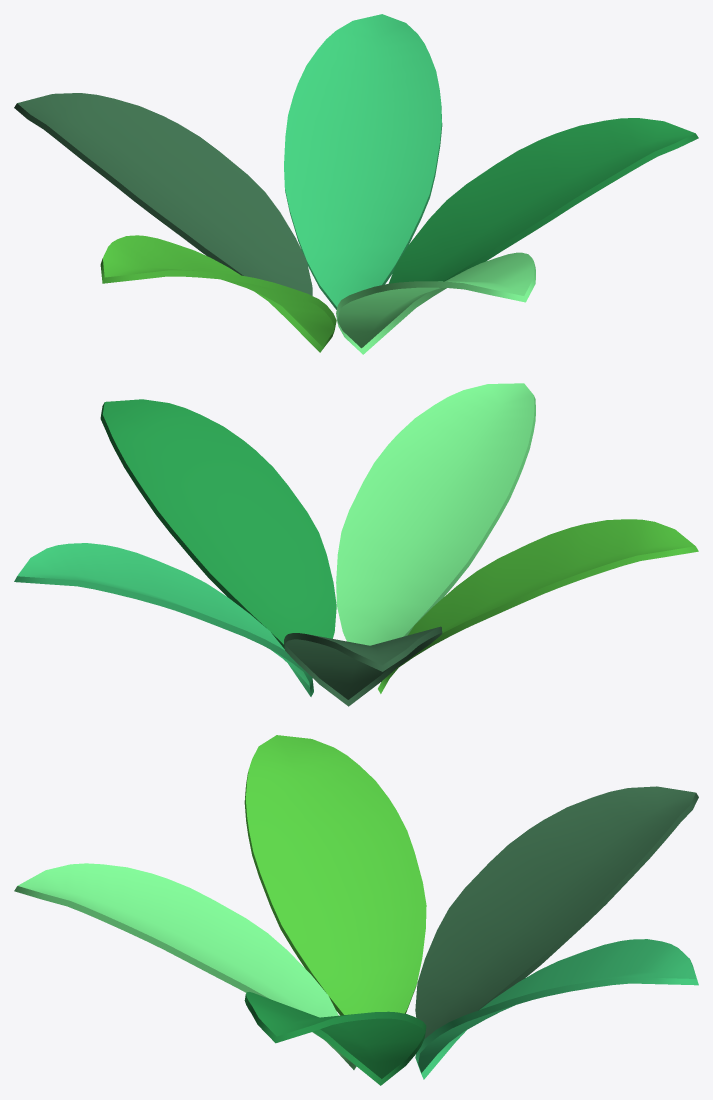
The model's file is Grass1.fbx.
3 renders of one model, top to bottom at view 1: azimuth 30°, elevation 25°; view 2: azimuth 150°, elevation 25°; view 3: azimuth 270°, elevation 25°, orthographic. The views are drawn at different scales.
Visible parts, largest first — view 1: Object007; view 2: Object007; view 3: Object007.
Boxes of the visible parts, <box> form: Object007: <box>14,14,698,354</box>; Object007: <box>14,383,698,706</box>; Object007: <box>14,735,698,1085</box>.
Size of the model in its own units: 16.74 by 4.83 by 15.92.
